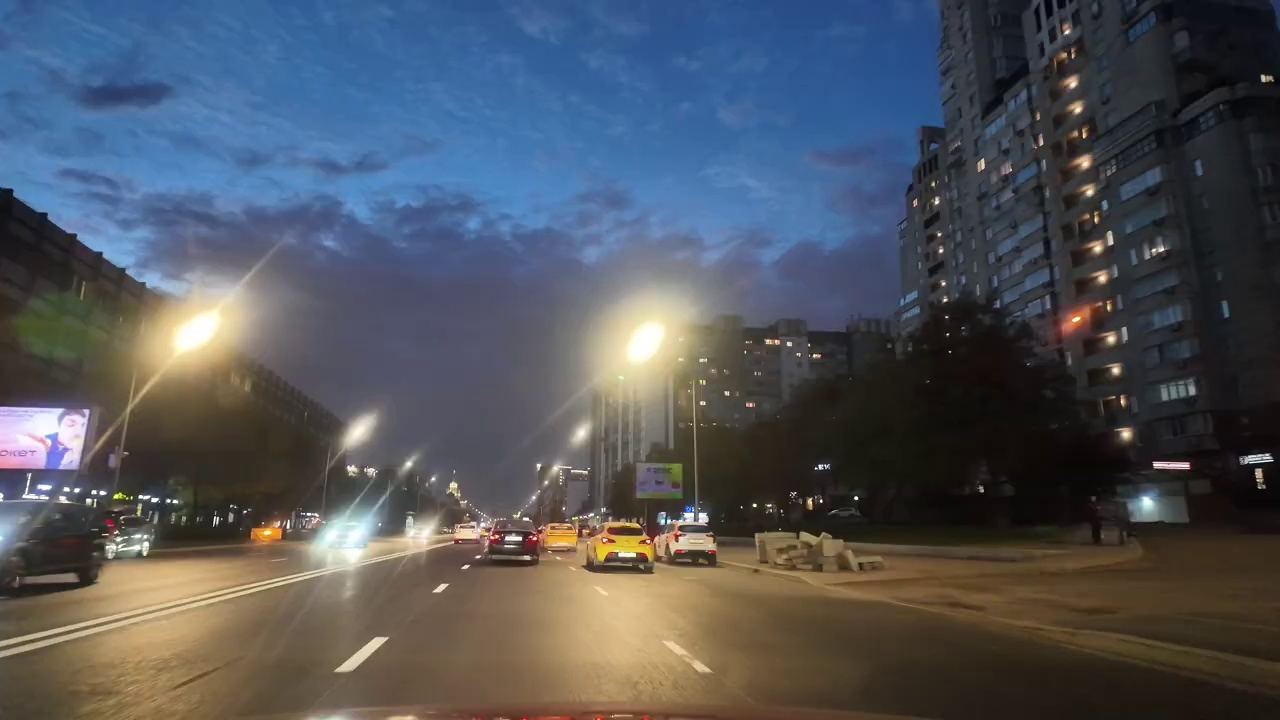acesa: (614, 312, 680, 378), (163, 303, 236, 362), (343, 412, 378, 451)
